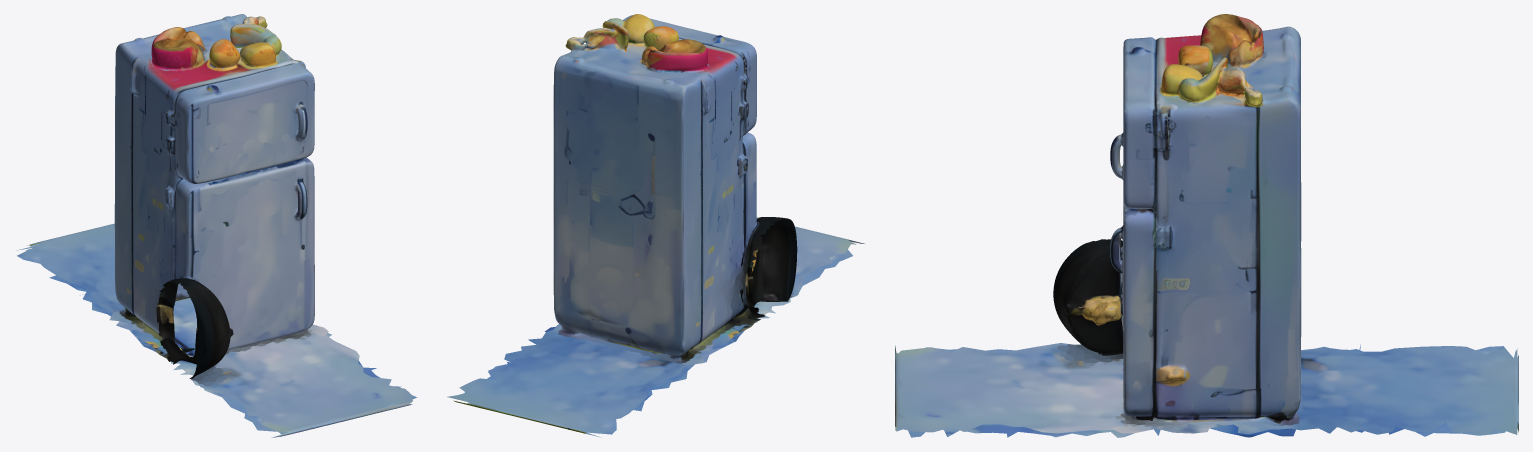
The model's file is fridge.glb.
The picture shows the model from 3 angles, left to right: view 1: azimuth 30°, elevation 25°; view 2: azimuth 150°, elevation 25°; view 3: azimuth 270°, elevation 25°; orthographic projection. The views are drawn at different scales.
Visible parts, largest first — view 1: textured; view 2: textured; view 3: textured.
Boxes of the visible parts, x1,y1,x2,y2 form: textured: (16, 14, 417, 437); textured: (447, 14, 864, 437); textured: (895, 14, 1518, 437).
Bounding box in the file's own units: 0.6995 × 1.24 × 1.99.
Materials: 1 (1 with a texture image).
